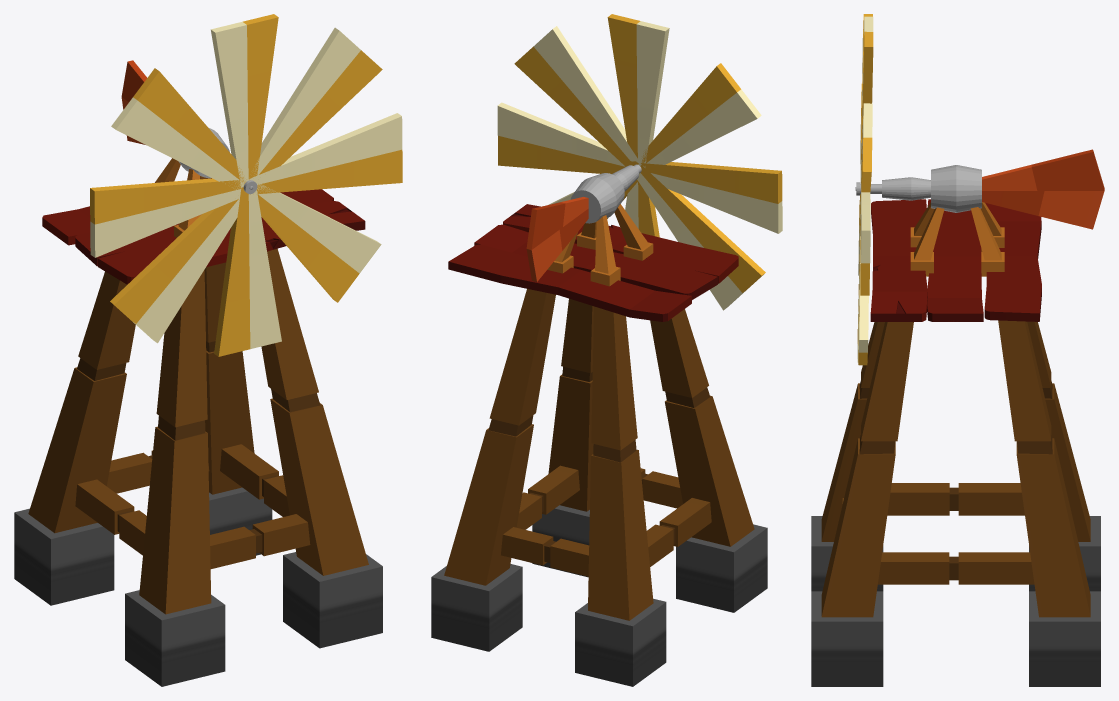
Rendered from Catavento.glb.
3 views of the same model, side by side, from view 1: azimuth 30°, elevation 25°; view 2: azimuth 150°, elevation 25°; view 3: azimuth 270°, elevation 25° (orthographic). The views are drawn at different scales.
Parts seen in each view (by area): view 1: CataventoBase, Pas, CataventoMotor; view 2: CataventoBase, Pas, CataventoMotor; view 3: CataventoBase, CataventoMotor, Pas.
Boxes of the visible parts, box(x1,y1,x2,y2) form: CataventoBase: box(14, 158, 382, 686); Pas: box(90, 14, 402, 356); CataventoMotor: box(121, 60, 257, 194); CataventoBase: box(431, 204, 767, 686); Pas: box(497, 14, 782, 310); CataventoMotor: box(526, 164, 641, 281); CataventoBase: box(811, 199, 1100, 686); CataventoMotor: box(855, 149, 1104, 229); Pas: box(857, 14, 873, 365).
Bounding box in the file's own units: 2.19 × 4.18 × 1.84.
1 material, 1 textured.
